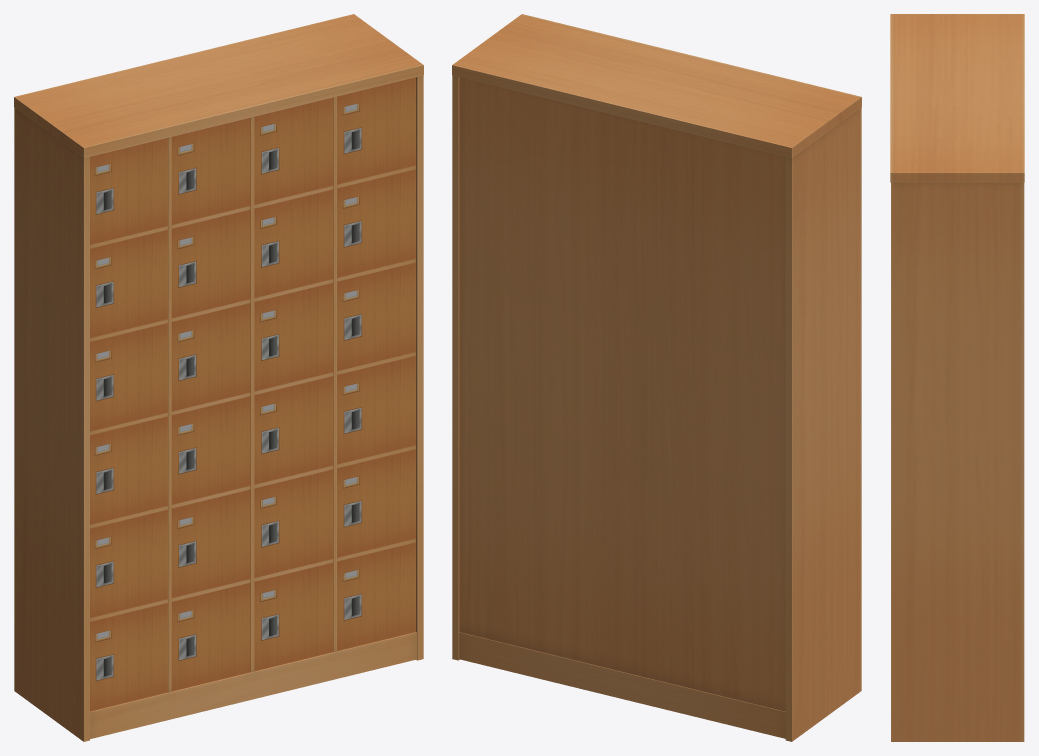
The model's file is set_shoecupboard_b_01.fbx.
3 renders of one model, left to right at view 1: azimuth 30°, elevation 25°; view 2: azimuth 150°, elevation 25°; view 3: azimuth 270°, elevation 25°, orthographic. The views are drawn at different scales.
Visible parts, largest first — view 1: shoecupboard_b_01, door_b_01_08, door_b_01_09, door_b_01_12, door_b_01_14, door_b_01_18, door_b_01_11, door_b_01_15, door_b_01_10, door_b_01_17, door_b_01_16, door_b_01_21 (+13 smaller); view 2: shoecupboard_b_01; view 3: shoecupboard_b_01.
Boxes of the visible parts, x1,y1,x2,y2 form: shoecupboard_b_01: (14,14,423,741); door_b_01_08: (171,209,250,318); door_b_01_09: (171,302,250,411); door_b_01_12: (171,582,250,691); door_b_01_14: (254,189,333,298); door_b_01_18: (254,562,333,671); door_b_01_11: (171,489,250,598); door_b_01_15: (254,282,333,391); door_b_01_10: (171,396,250,504); door_b_01_17: (254,469,333,577); door_b_01_16: (254,376,333,484); door_b_01_21: (337,262,415,371); shoecupboard_b_01: (452,14,861,741); shoecupboard_b_01: (890,14,1024,741).
Size of the model in its own units: 105 by 175 by 37.38.
